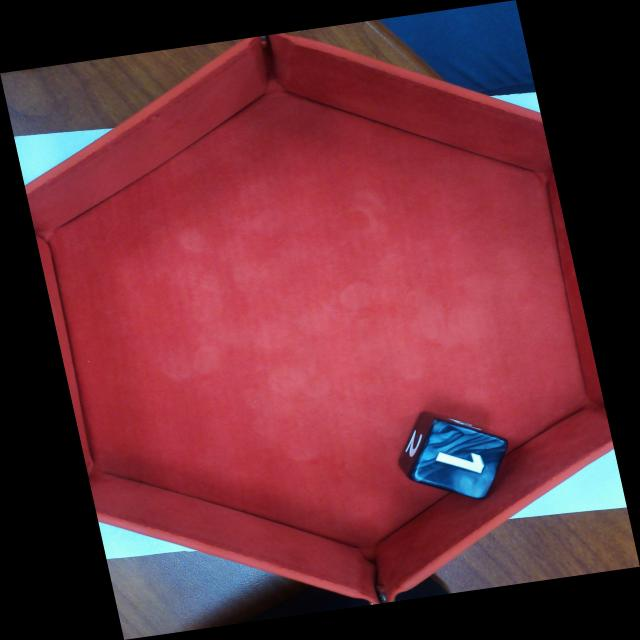dice: (409, 419, 507, 498)
